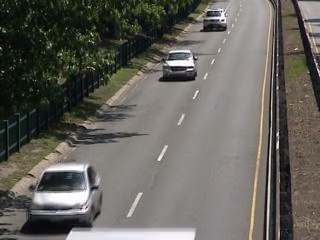car: (26, 159, 106, 229), (161, 48, 201, 81), (201, 7, 230, 32)
